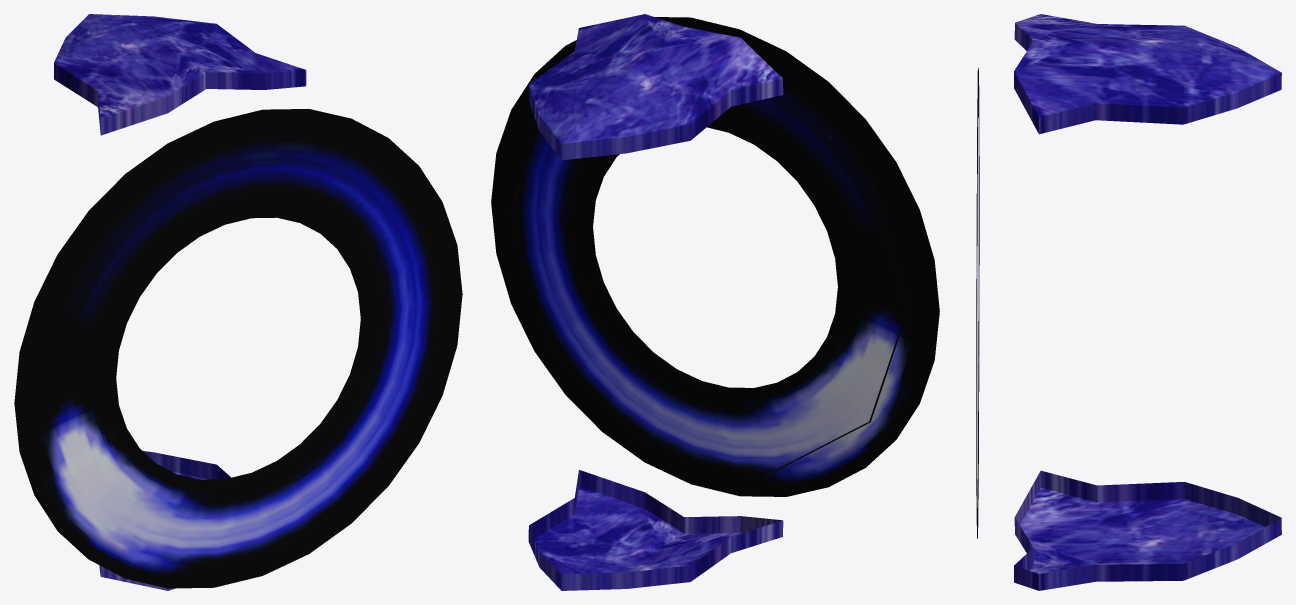
Rendered from tx_chidun_fire.obj.
3 renders of one model, left to right at view 1: azimuth 30°, elevation 25°; view 2: azimuth 150°, elevation 25°; view 3: azimuth 270°, elevation 25°, orthographic. The views are drawn at different scales.
Parts seen in each view (by area): view 1: Plane03, dun#02, dun#1; view 2: Plane03, dun#02, dun#1, Cylinder01; view 3: dun#02, dun#1, Cylinder01.
Boxes of the visible parts, x1,y1,x2,y2 form: Plane03: [14, 109, 462, 588]; dun#02: [54, 14, 306, 135]; dun#1: [99, 451, 230, 590]; Plane03: [491, 17, 939, 496]; dun#02: [528, 14, 783, 160]; dun#1: [528, 470, 783, 590]; Cylinder01: [511, 90, 908, 473]; dun#02: [1014, 14, 1281, 134]; dun#1: [1014, 470, 1281, 590]; Cylinder01: [976, 68, 979, 538].
Size of the model in its own units: 81.78 by 88.27 by 47.91.
